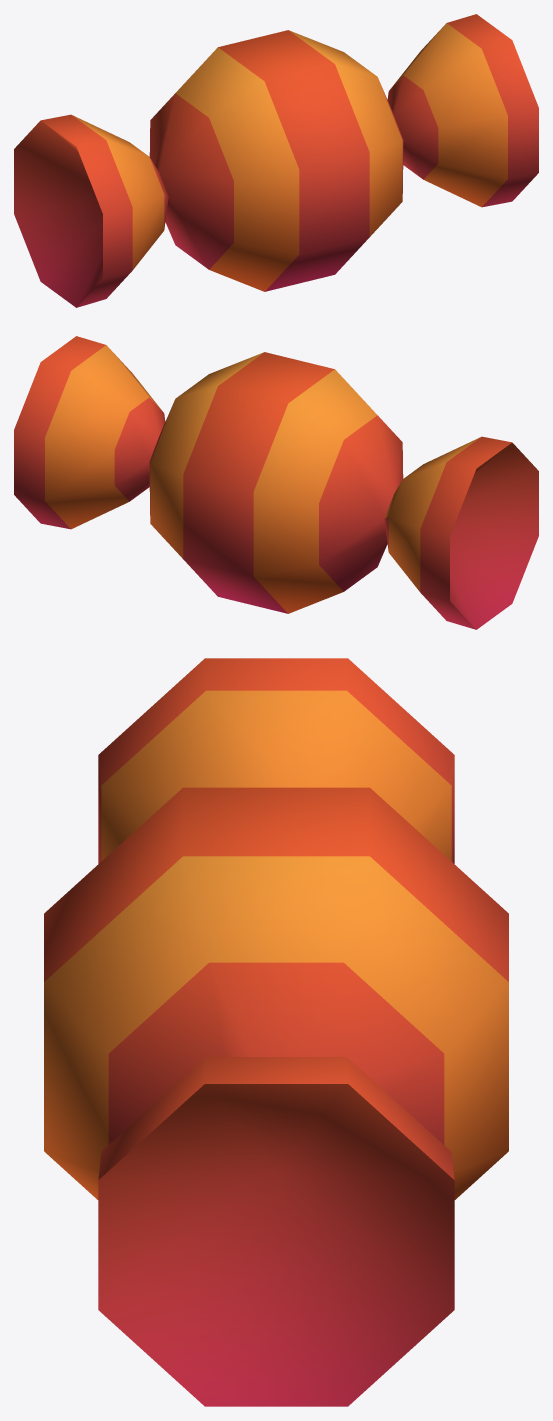
Rendered from candy_orange_C.gltf.
3 views of the same model, one above another, from view 1: azimuth 30°, elevation 25°; view 2: azimuth 150°, elevation 25°; view 3: azimuth 270°, elevation 25° (orthographic). The views are drawn at different scales.
Parts seen in each view (by area): view 1: candy_orange_C; view 2: candy_orange_C; view 3: candy_orange_C.
Part boxes in pixels (x1=…): candy_orange_C: x1=14, y1=14, x2=538, y2=307; candy_orange_C: x1=14, y1=336, x2=538, y2=629; candy_orange_C: x1=44, y1=658, x2=508, y2=1406.
Size of the model in its own units: 0.65 by 0.3 by 0.3.
1 material, 1 textured.
